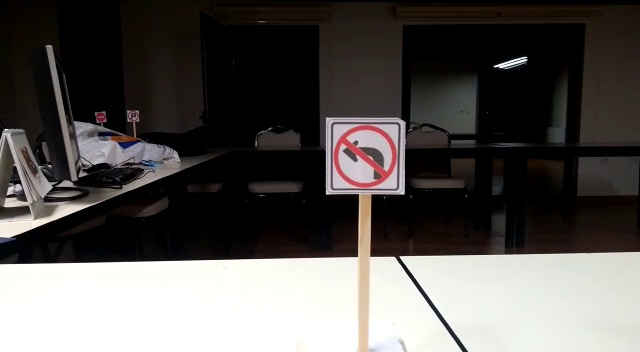sola_donulmez: (331, 123, 393, 183)
